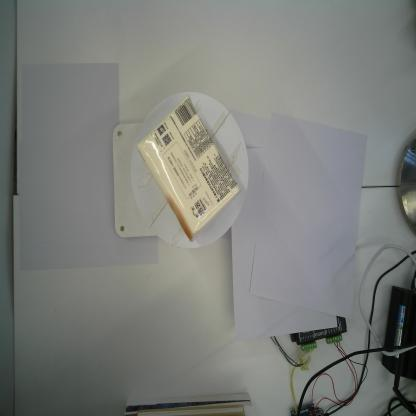Tissue: (136, 92, 240, 242)
